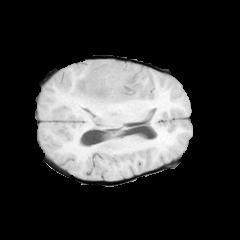glioma: (71, 66, 139, 110)
